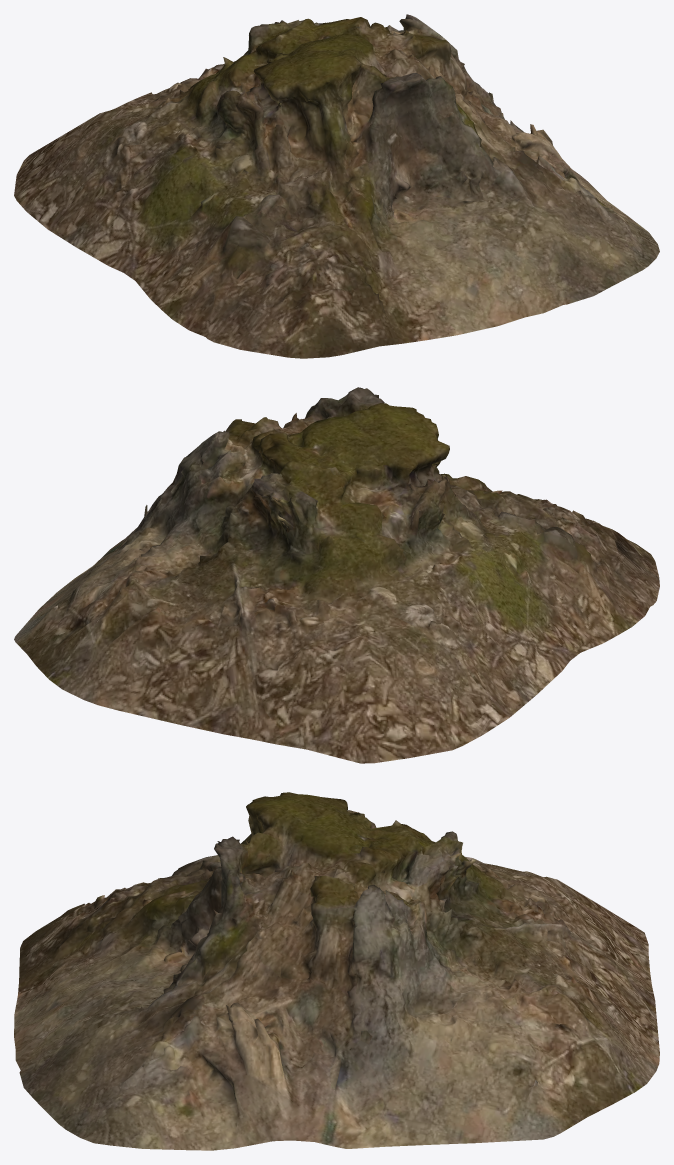
File: tree_stump_01.glb
3 renders of one model, top to bottom at view 1: azimuth 30°, elevation 25°; view 2: azimuth 150°, elevation 25°; view 3: azimuth 270°, elevation 25°, orthographic. The views are drawn at different scales.
Parts seen in each view (by area): view 1: tree_stump_01; view 2: tree_stump_01; view 3: tree_stump_01.
Part boxes in pixels (left/top/right/bottom): tree_stump_01: left=14, top=14, right=659, bottom=358; tree_stump_01: left=14, top=387, right=659, bottom=763; tree_stump_01: left=14, top=792, right=659, bottom=1150.
Bounding box in the file's own units: 1.43 × 0.5725 × 1.59.
Materials: 1 (1 with a texture image).
